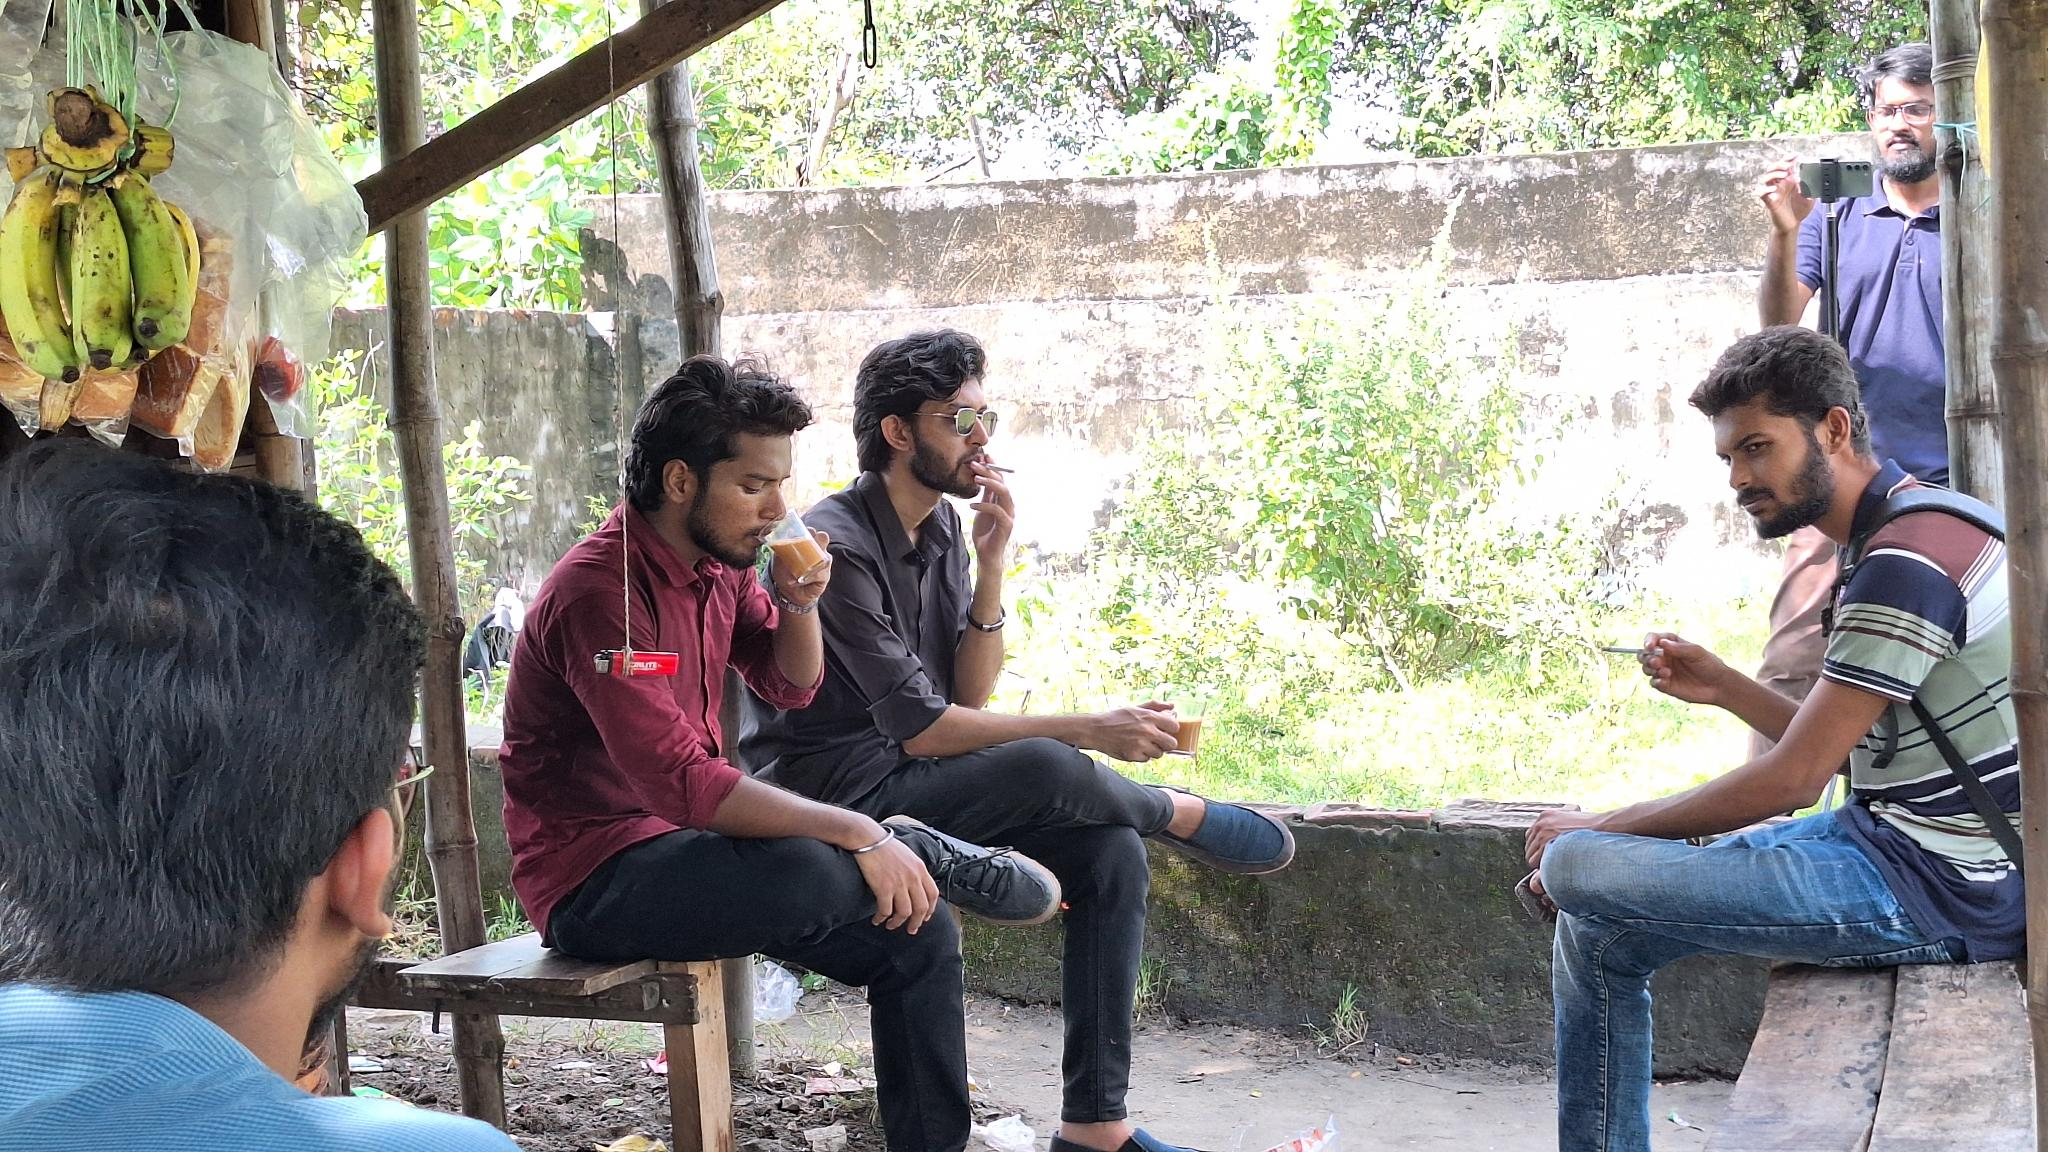cigarette: (1598, 641, 1670, 661), (978, 459, 1017, 477)
nonSmoker: (502, 354, 1061, 1152), (0, 459, 530, 1152), (1750, 46, 1954, 488)
smoker: (1506, 316, 2011, 1152), (810, 319, 1294, 1152)
